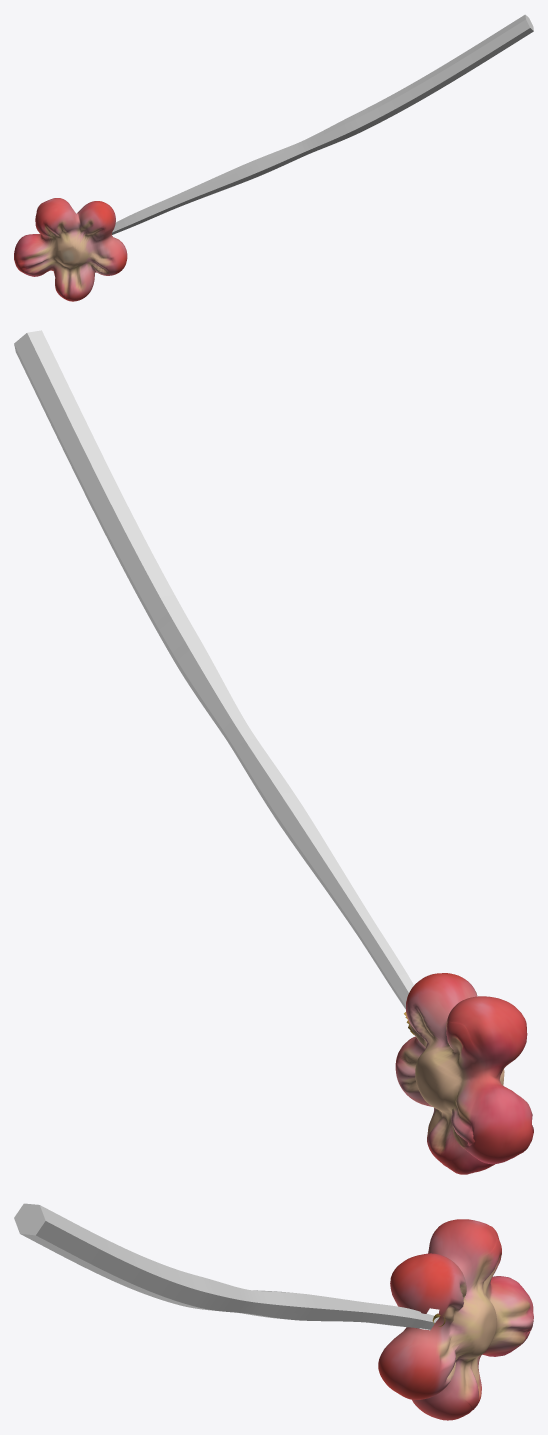
3 views of the same model, one above another, from view 1: azimuth 30°, elevation 25°; view 2: azimuth 150°, elevation 25°; view 3: azimuth 270°, elevation 25° (orthographic). The views are drawn at different scales.
Visible parts, largest first — view 1: LOD 0_4441588532611241159_923a94d9283586042bf341a57634d57c; view 2: LOD 0_4441588532611241159_923a94d9283586042bf341a57634d57c; view 3: LOD 0_4441588532611241159_923a94d9283586042bf341a57634d57c.
Part boxes in pixels (x1,y1,x2,y2): LOD 0_4441588532611241159_923a94d9283586042bf341a57634d57c: (14, 14, 533, 301); LOD 0_4441588532611241159_923a94d9283586042bf341a57634d57c: (14, 330, 533, 1174); LOD 0_4441588532611241159_923a94d9283586042bf341a57634d57c: (14, 1203, 533, 1420).
Bounding box in the file's own units: 1.5 × 1.01 × 0.9113.
